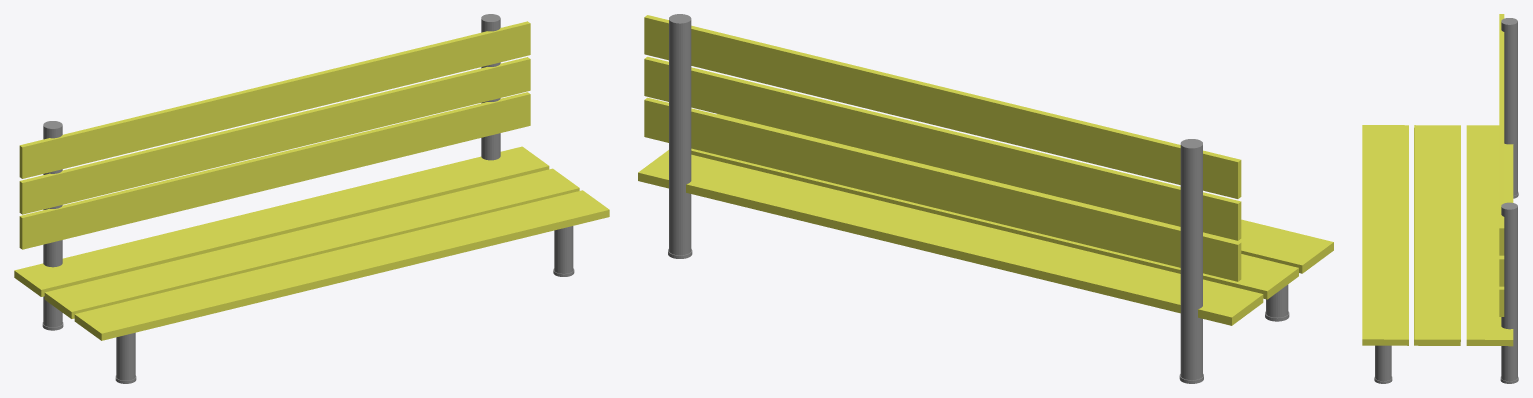
Rendered from banco 3 .fbx.
3 renders of one model, left to right at view 1: azimuth 30°, elevation 25°; view 2: azimuth 150°, elevation 25°; view 3: azimuth 270°, elevation 25°, orthographic. The views are drawn at different scales.
Parts seen in each view (by area): view 1: Cube.014; view 2: Cube.014; view 3: Cube.014.
Boxes of the visible parts, <box> form: Cube.014: <box>14,14,609,383</box>; Cube.014: <box>638,14,1333,383</box>; Cube.014: <box>1362,14,1518,383</box>.
Size of the model in its own units: 543 by 205 by 167.
